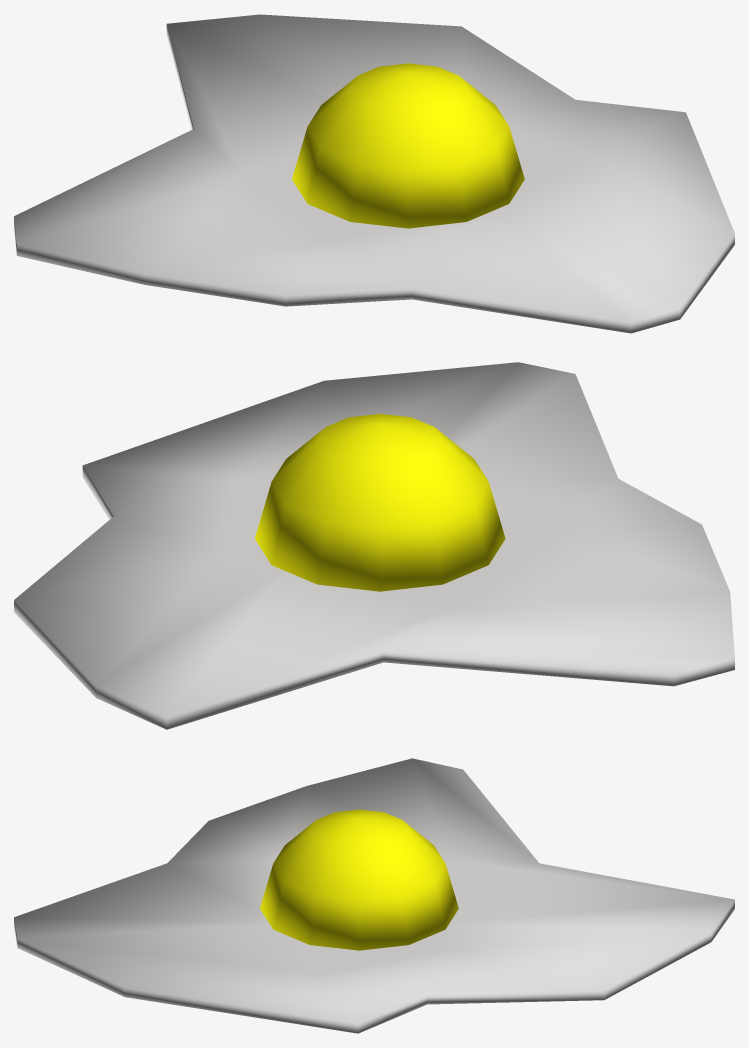
The model's file is Egg.fbx.
3 views of the same model, one above another, from view 1: azimuth 30°, elevation 25°; view 2: azimuth 150°, elevation 25°; view 3: azimuth 270°, elevation 25° (orthographic). The views are drawn at different scales.
Parts seen in each view (by area): view 1: Object; view 2: Object; view 3: Object.
Boxes of the visible parts, box(x1,y1,x2,y2) form: Object: box(14, 14, 734, 333); Object: box(14, 362, 734, 729); Object: box(14, 758, 734, 1033).
Size of the model in its own units: 12.22 by 2.14 by 14.01.
